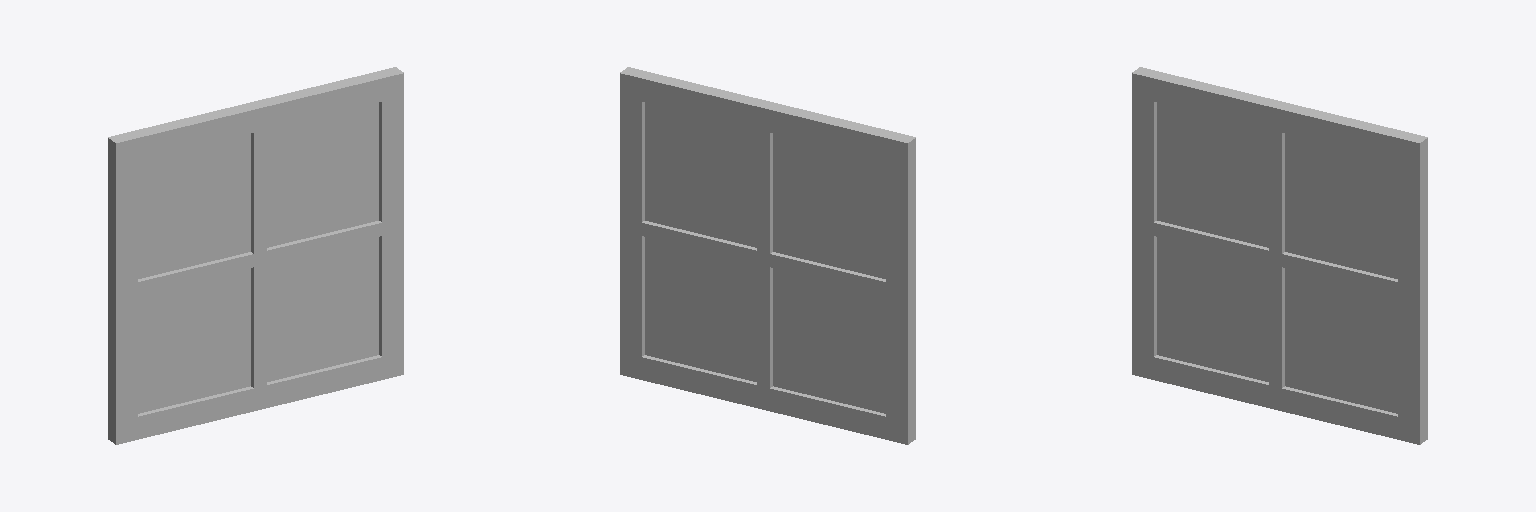
The model's file is Window01.obj.
3 views of the same model, side by side, from view 1: azimuth 30°, elevation 25°; view 2: azimuth 150°, elevation 25°; view 3: azimuth 330°, elevation 25° (orthographic).
Visible parts, largest first — view 1: Cube_Cube.001; view 2: Cube_Cube.001; view 3: Cube_Cube.001.
Boxes of the visible parts, box(x1,y1,x2,y2) form: Cube_Cube.001: box(108, 67, 403, 444); Cube_Cube.001: box(620, 67, 915, 444); Cube_Cube.001: box(1132, 67, 1427, 444).
Bounding box in the file's own units: 200 × 200 × 10.15.